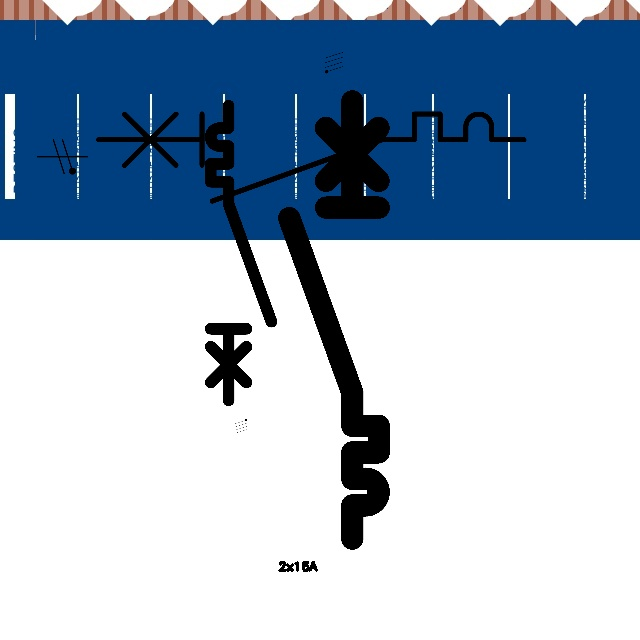interruptor_termomagnetico: (278, 90, 390, 550), (87, 103, 534, 212), (203, 98, 279, 408)
